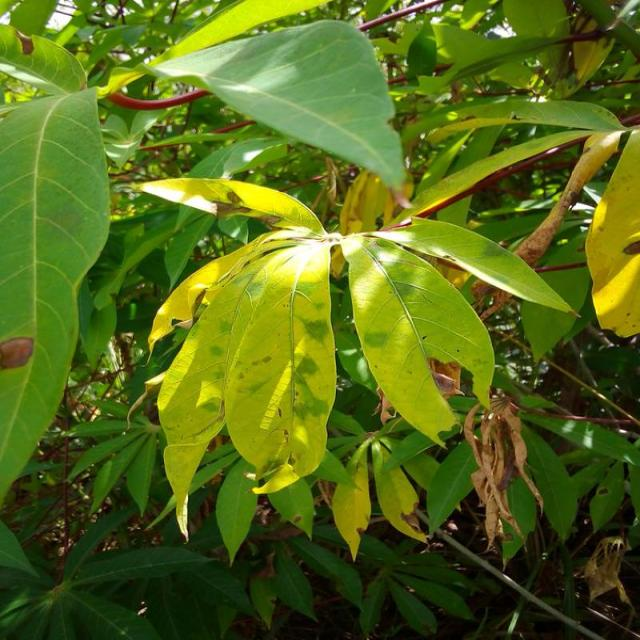cassava leaf: (154, 231, 338, 541), (1, 84, 113, 508), (140, 17, 408, 192), (342, 231, 497, 448), (585, 126, 640, 338)
